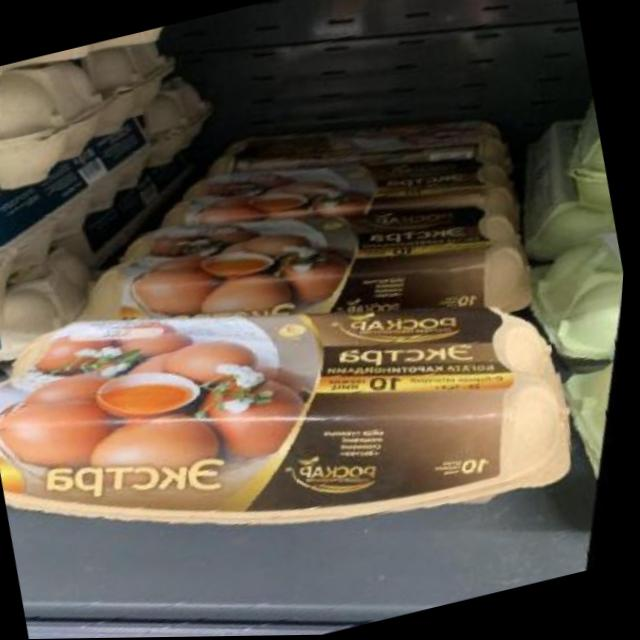Egg: (0, 178, 631, 640), (60, 123, 569, 408), (150, 96, 535, 289)
